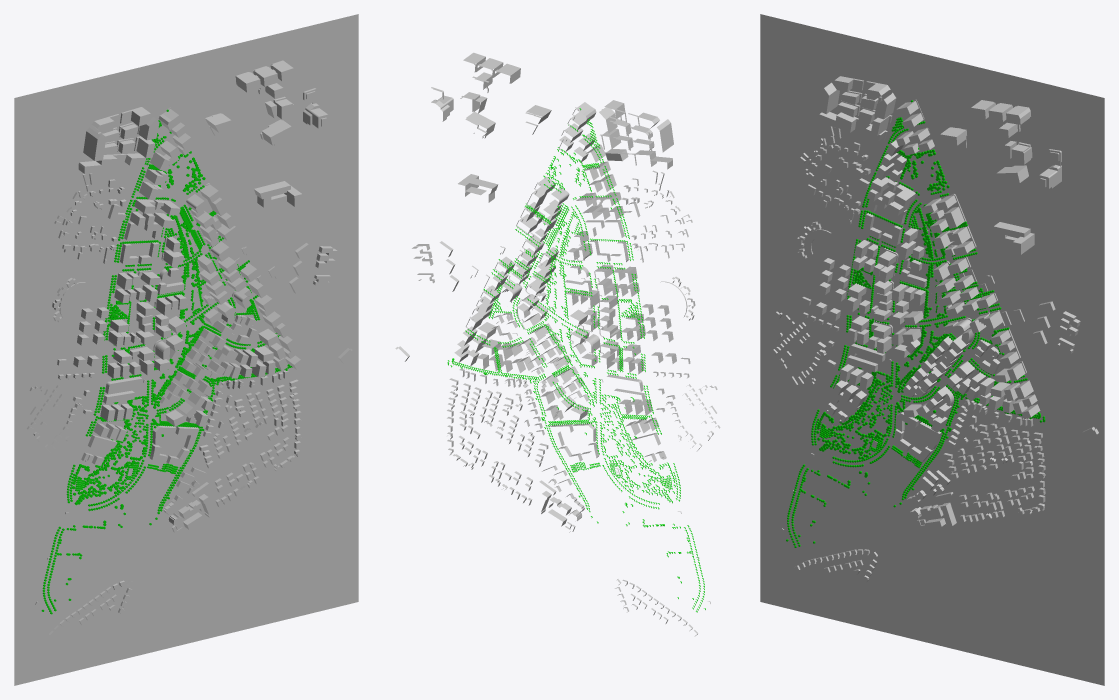
Rendered from nes_tziona_unblock_2.glb.
3 views of the same model, side by side, from view 1: azimuth 30°, elevation 25°; view 2: azimuth 150°, elevation 25°; view 3: azimuth 330°, elevation 25° (orthographic).
Visible parts, largest first — view 1: Buildings, Trees; view 2: Buildings, Trees; view 3: Buildings, Trees.
Boxes of the visible parts, x1,y1,x2,y2 form: Buildings: [14, 14, 358, 685]; Trees: [41, 109, 292, 614]; Buildings: [395, 52, 720, 635]; Trees: [447, 108, 705, 612]; Buildings: [760, 14, 1104, 685]; Trees: [786, 100, 1045, 547].
Bounding box in the file's own units: 1121 × 1829 × 82.6.
